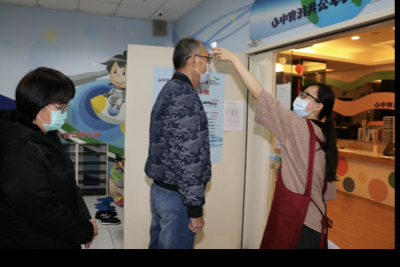with_mask: (40, 104, 68, 134), (290, 91, 313, 120), (195, 51, 212, 83)
